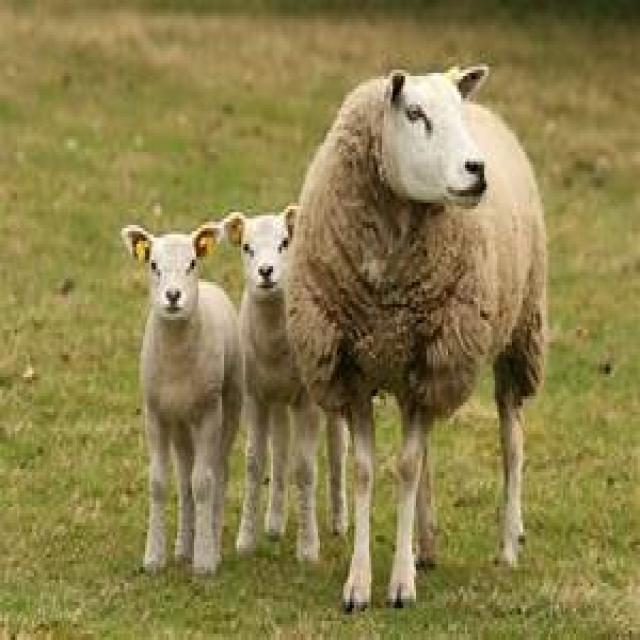animal: (288, 32, 570, 575), (108, 184, 231, 586), (210, 180, 306, 521)
